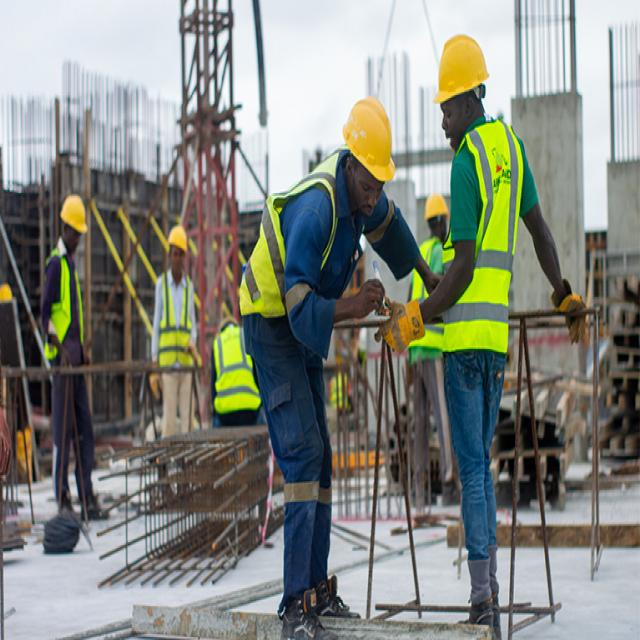Reflective-Jacket: (441, 120, 526, 355), (238, 152, 350, 322), (40, 247, 88, 366), (210, 322, 261, 416), (152, 270, 198, 374)
Safety-Helmet: (341, 90, 398, 182), (430, 28, 490, 107), (58, 189, 90, 239), (166, 220, 192, 257)
